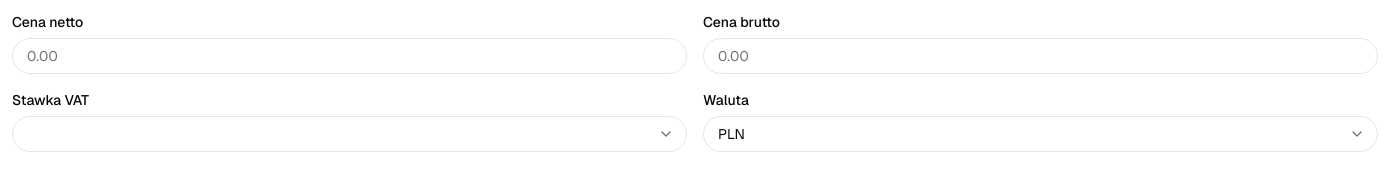
components/product-dialog/Step2Price › poprawnie czyści i sanityzuje przecinek na kropkę
This screenshot has width=1390, height=172.
Type "50,5" into the field labelled "Cena netto" at (350, 56), box [12,38,687,74]
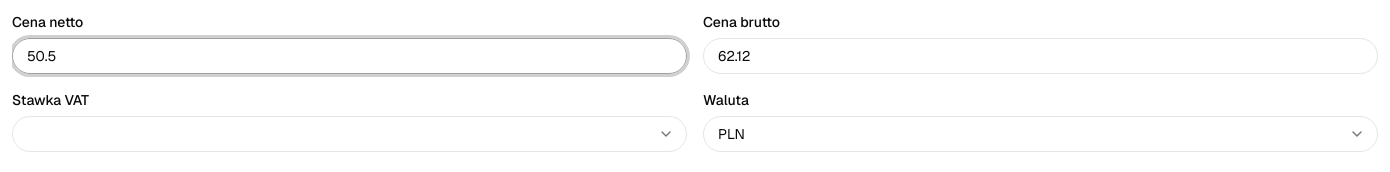
Expected: the field labelled "Cena netto" holds "50.5", [12,38,687,74]
Expected: the field labelled "Cena brutto" holds "62.12", [703,38,1378,74]
